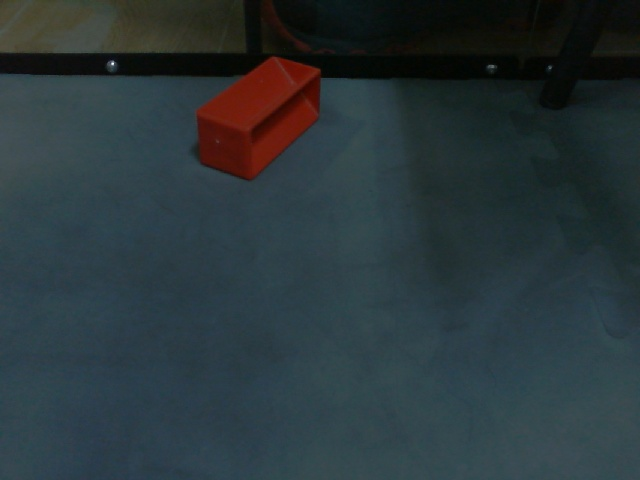RedSample: (191, 55, 323, 183)
